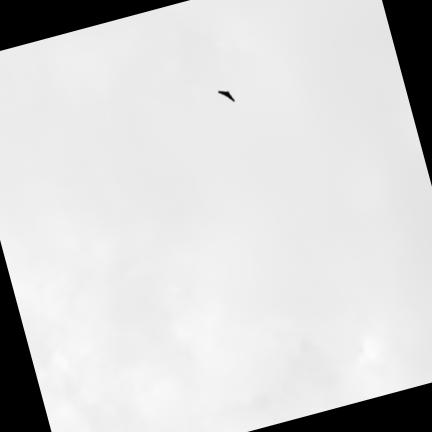Shahed: (217, 90, 233, 100)
